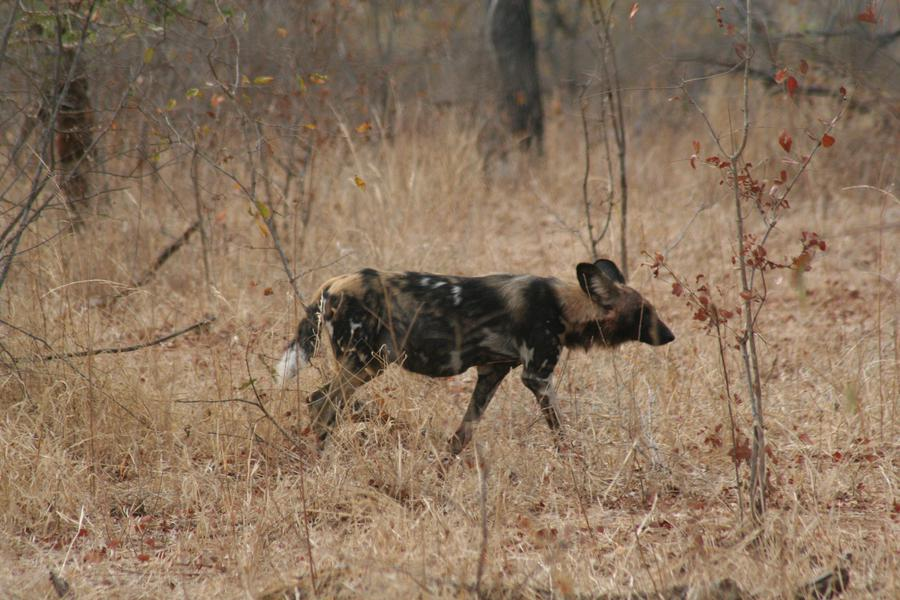wilddog: (288, 277, 676, 399)
